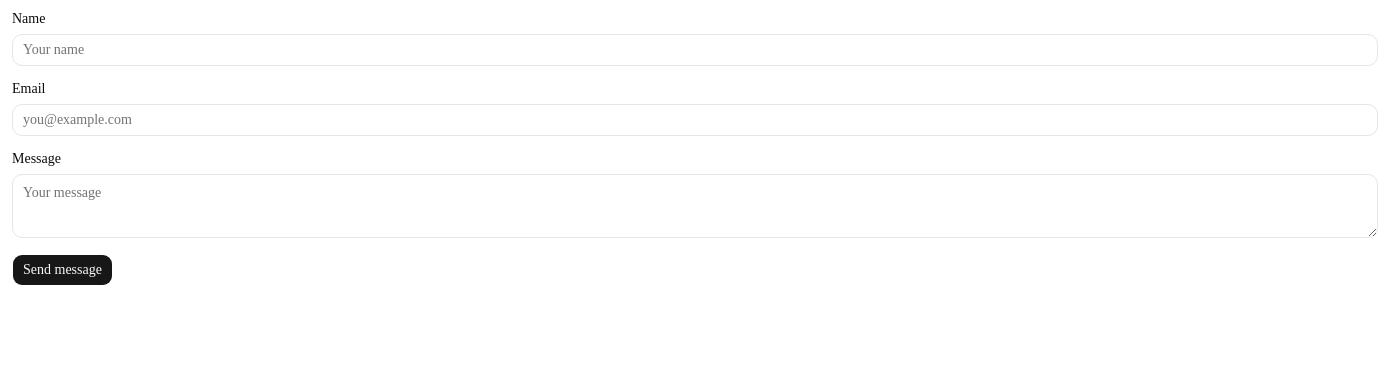
Scenario: ContactForm › shows validation errors for an empty submit
The image size is (1390, 390).
What coordinates should you click on to do the following:
click the button "Send message"
I would click on:
 (62, 270)
Its box is [12,254,113,286].
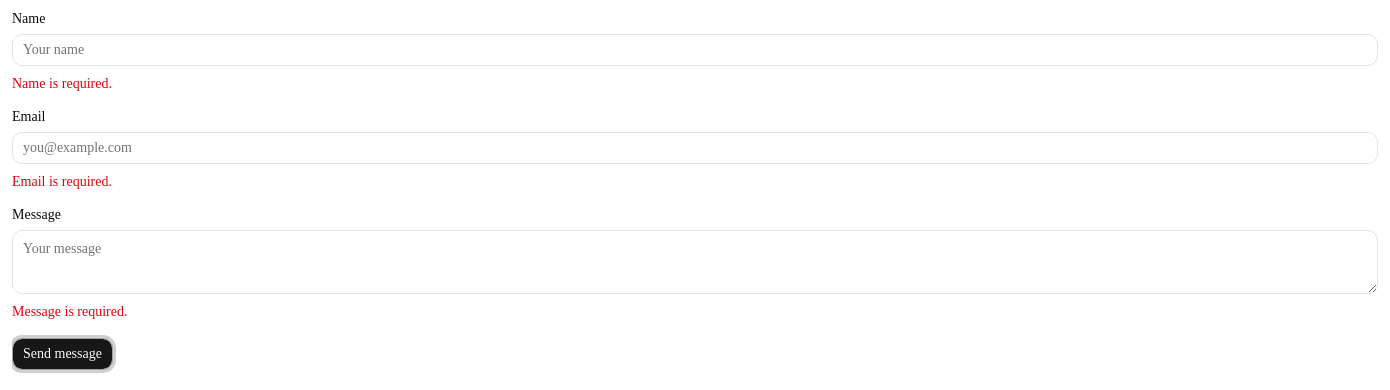
expect the text "Name is required." is shown: met, box [12,76,112,91]
expect the text "Email is required." is shown: met, box [12,174,112,189]
expect the text "Message is required." is shown: met, box [12,304,128,319]
